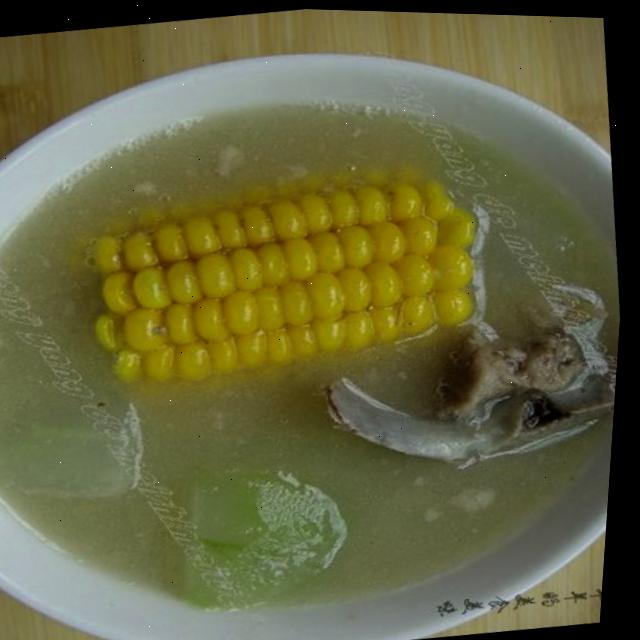汤锅炖物: (0, 109, 606, 595)
